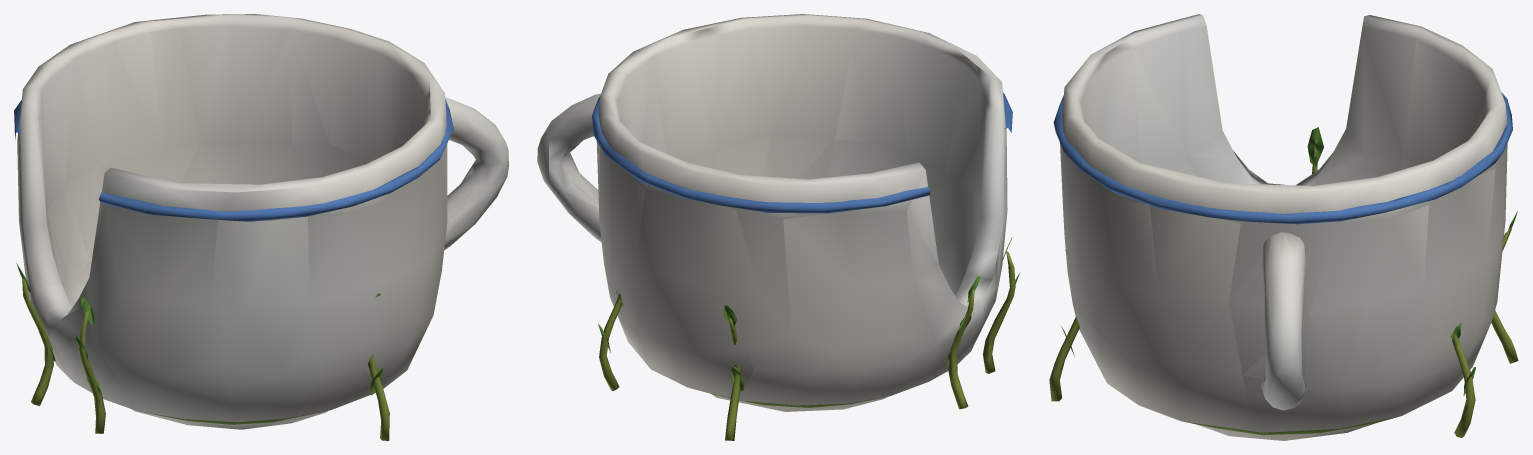
File: mire_teacup_lod2.glb
The picture shows the model from 3 angles, left to right: view 1: azimuth 30°, elevation 25°; view 2: azimuth 150°, elevation 25°; view 3: azimuth 270°, elevation 25°; orthographic projection. The views are drawn at different scales.
Parts seen in each view (by area): view 1: mire_teacup.001; view 2: mire_teacup.001; view 3: mire_teacup.001.
Boxes of the visible parts, x1,y1,x2,y2 form: mire_teacup.001: (14, 14, 508, 440); mire_teacup.001: (537, 14, 1020, 440); mire_teacup.001: (1049, 14, 1518, 440).
Bounding box in the file's own units: 15.5 × 8.65 × 12.76.
